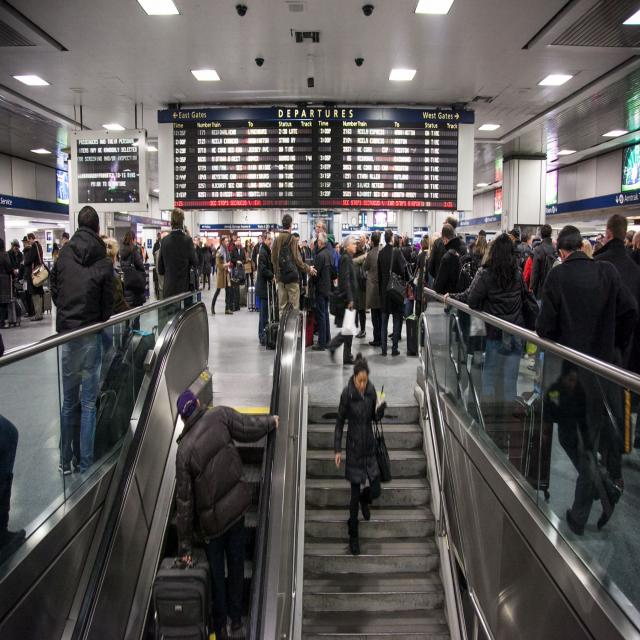body: (532, 219, 640, 544), (172, 382, 282, 640), (49, 206, 115, 476), (466, 231, 541, 429), (590, 212, 640, 496), (332, 350, 394, 558), (1, 333, 30, 552), (270, 212, 317, 320), (157, 205, 199, 318), (530, 222, 560, 362), (376, 227, 408, 358), (308, 230, 338, 353), (328, 234, 356, 365), (433, 223, 477, 294), (119, 228, 147, 332), (254, 229, 278, 348), (362, 231, 383, 347), (20, 232, 45, 322), (427, 213, 458, 280), (503, 226, 544, 275), (210, 236, 234, 315), (353, 240, 367, 339), (97, 233, 123, 282), (402, 254, 417, 335), (416, 238, 429, 320), (577, 229, 608, 262), (7, 238, 23, 298), (298, 239, 314, 293), (198, 238, 220, 277), (152, 231, 164, 298), (50, 230, 71, 268), (467, 227, 490, 260), (7, 238, 20, 296), (392, 228, 421, 254), (230, 236, 247, 279), (243, 238, 255, 294), (548, 230, 564, 272), (358, 230, 385, 252), (200, 246, 212, 290), (193, 236, 202, 291), (136, 239, 150, 274), (228, 231, 238, 279), (622, 228, 640, 254), (252, 234, 264, 272), (21, 235, 31, 261), (333, 238, 347, 256), (421, 232, 433, 253), (248, 236, 256, 261), (17, 246, 24, 260), (267, 242, 274, 254), (225, 232, 231, 241)
